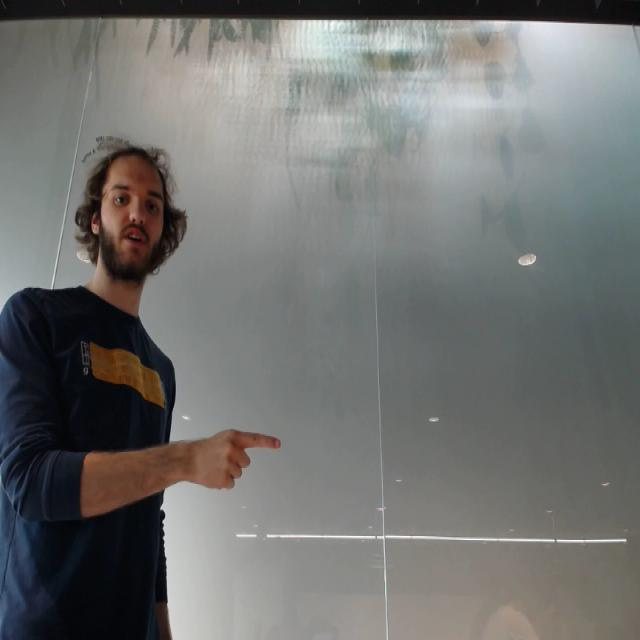right: (183, 421, 287, 496)
